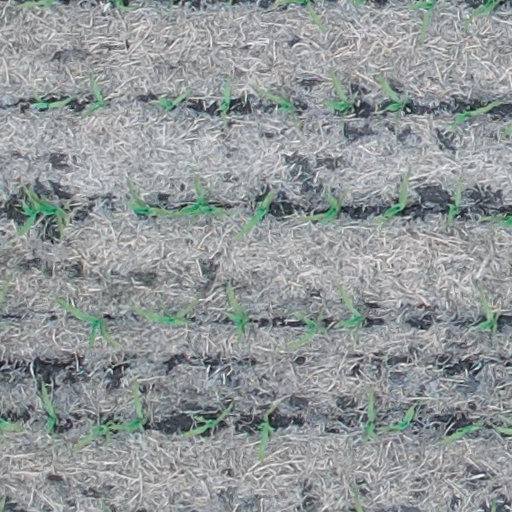planta: (55, 297, 118, 347), (22, 183, 70, 236), (172, 177, 226, 218), (108, 381, 151, 431), (130, 297, 199, 327), (235, 190, 275, 241), (257, 87, 301, 133), (371, 171, 410, 221), (125, 183, 181, 217), (178, 405, 232, 439), (470, 285, 501, 342), (374, 74, 404, 131), (221, 281, 250, 339), (451, 99, 503, 129), (297, 190, 340, 225), (332, 285, 365, 329), (76, 416, 118, 448), (322, 70, 353, 112), (378, 400, 419, 431), (439, 418, 485, 445), (256, 404, 277, 459), (16, 185, 38, 236), (289, 310, 317, 349), (81, 73, 106, 115), (31, 89, 75, 111), (40, 381, 58, 431), (363, 392, 379, 447), (446, 178, 464, 225), (154, 88, 190, 111), (217, 75, 231, 124)
